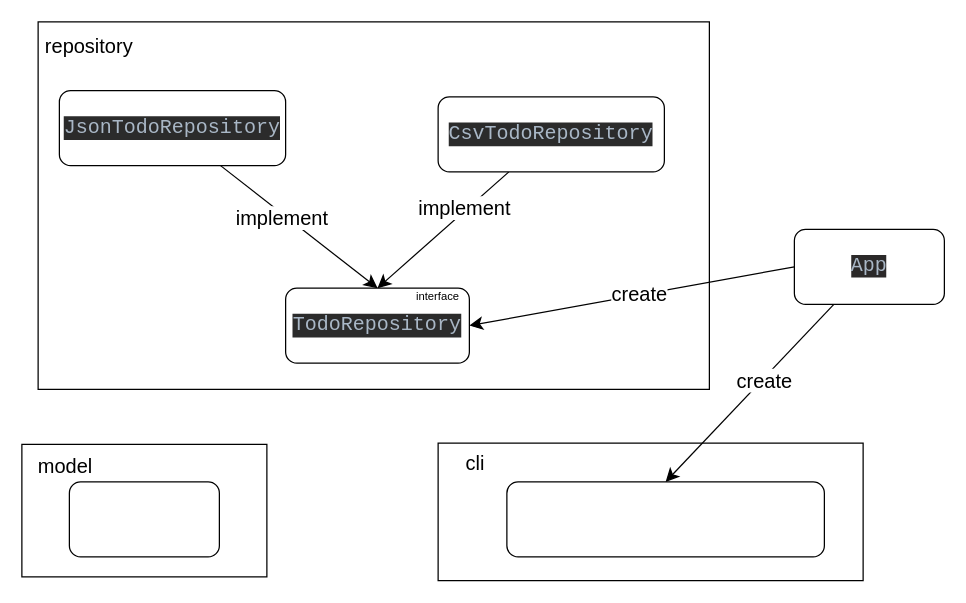
Some shapes in this 966 by 603 pixel diagram are drawn without their labels. The centre of each missing label's shape, as x and y in pixels:
"CommandLineArgumentsParser" goes at (x=665, y=519).
"TodoItem" goes at (x=143, y=519).
